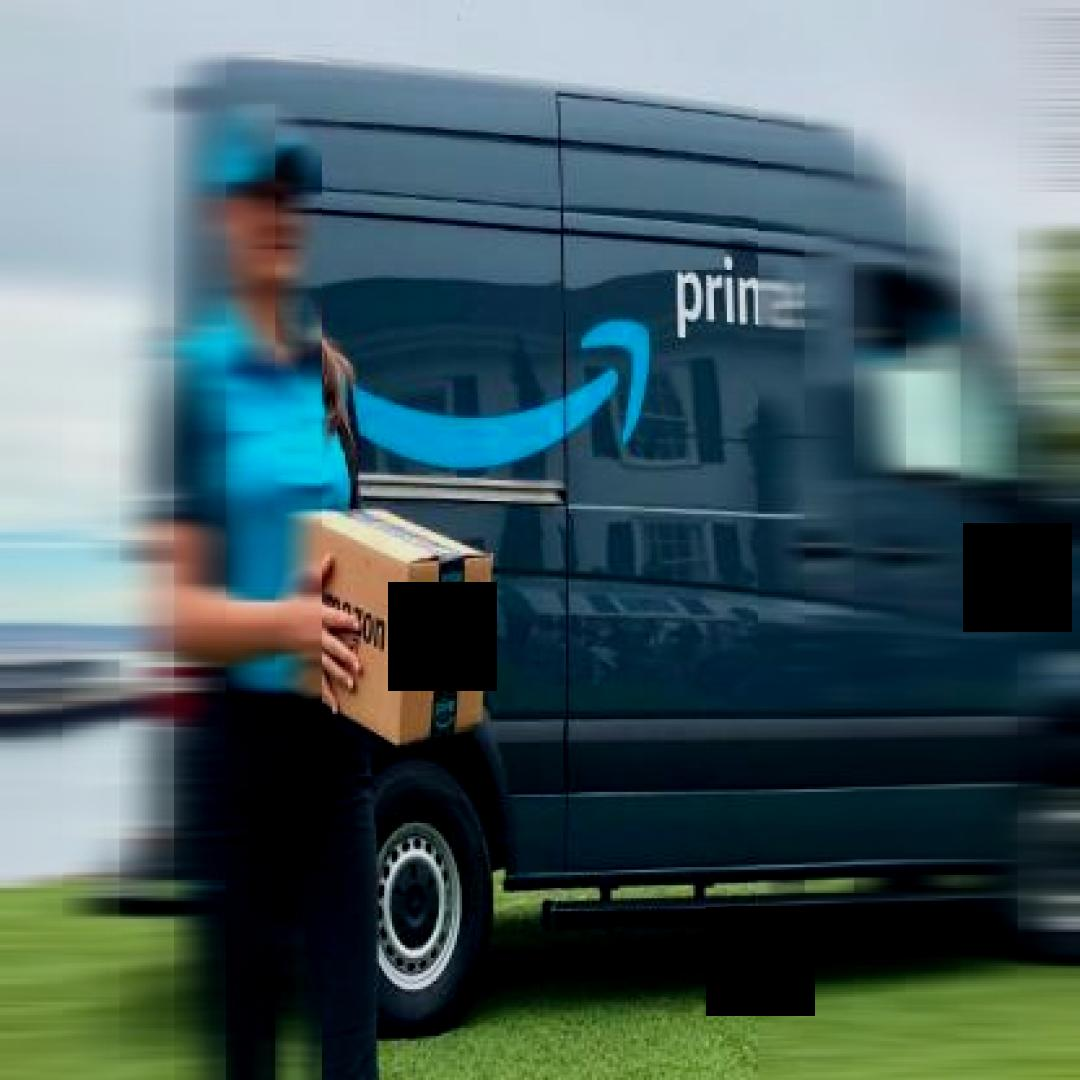package: (283, 493, 504, 766)
